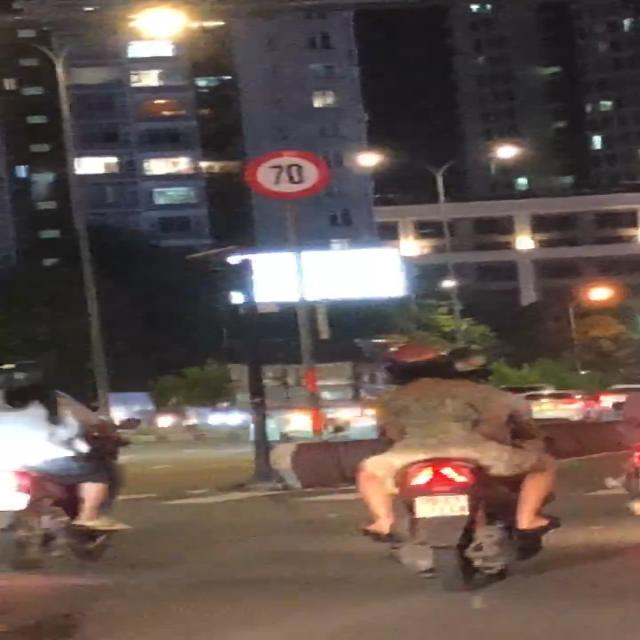Bien bao toc do toi da cho phep: (236, 148, 328, 200)
